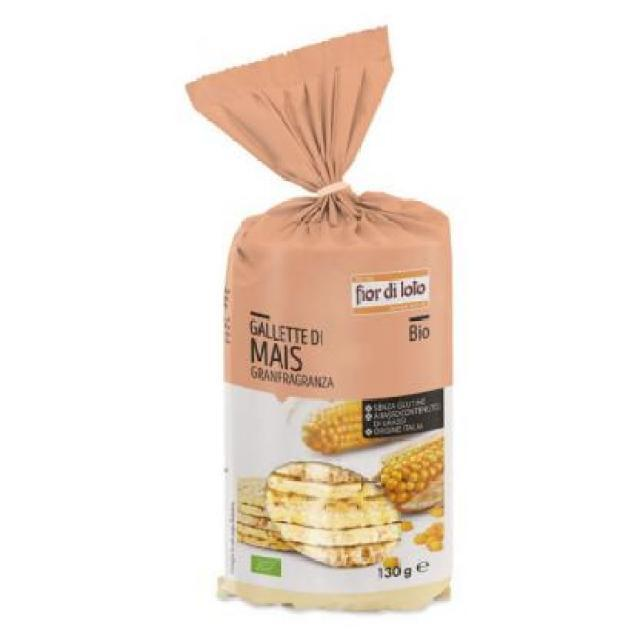Gallette di riso: (183, 34, 454, 620)
